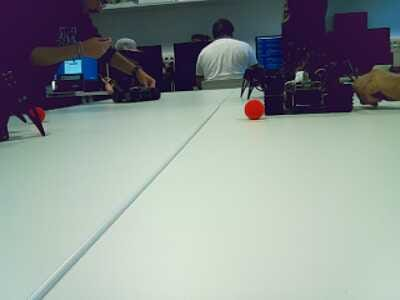bola_lejos: (244, 101, 266, 117)
